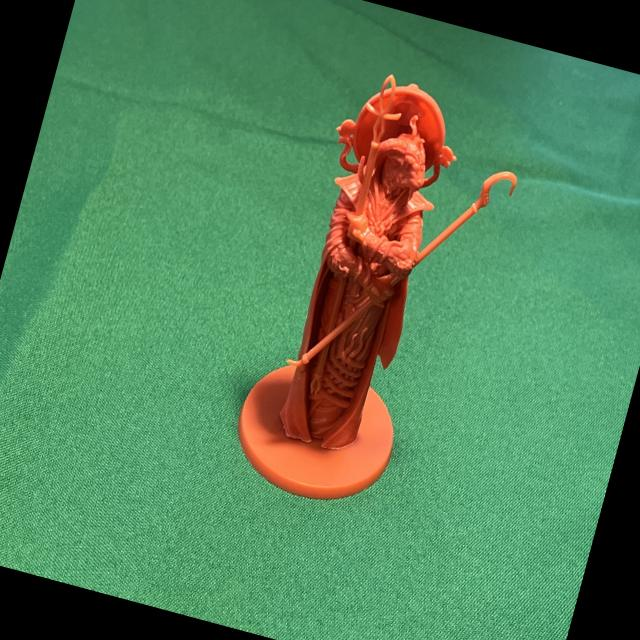amon: (218, 56, 536, 532)
